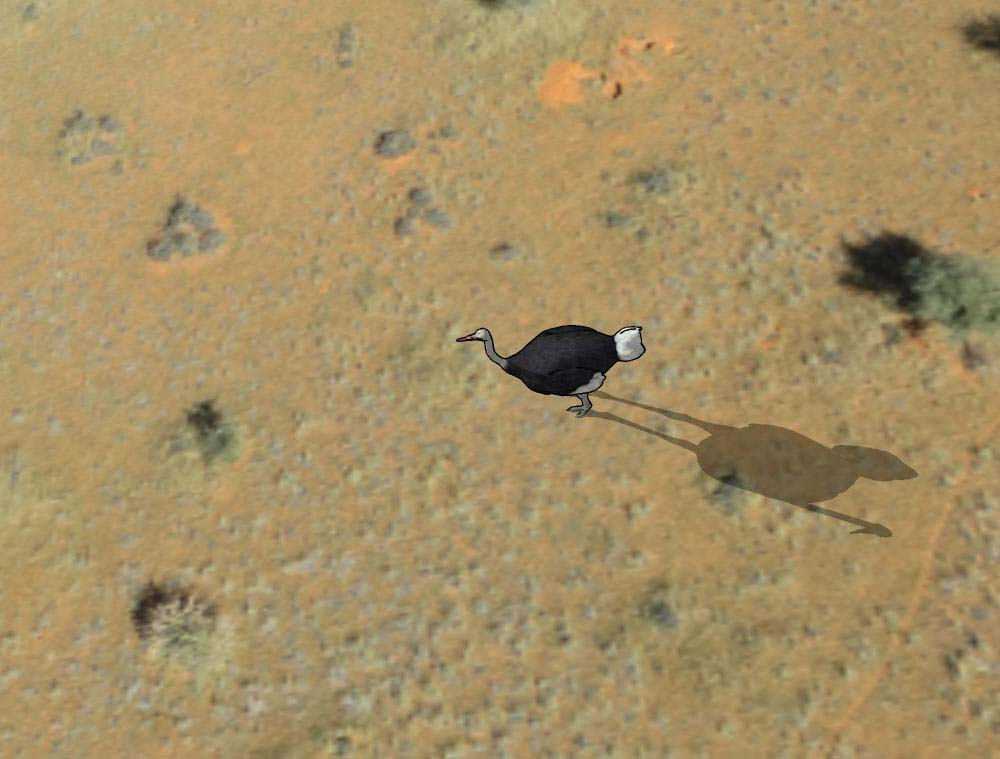ostrich: (452, 315, 647, 418)
